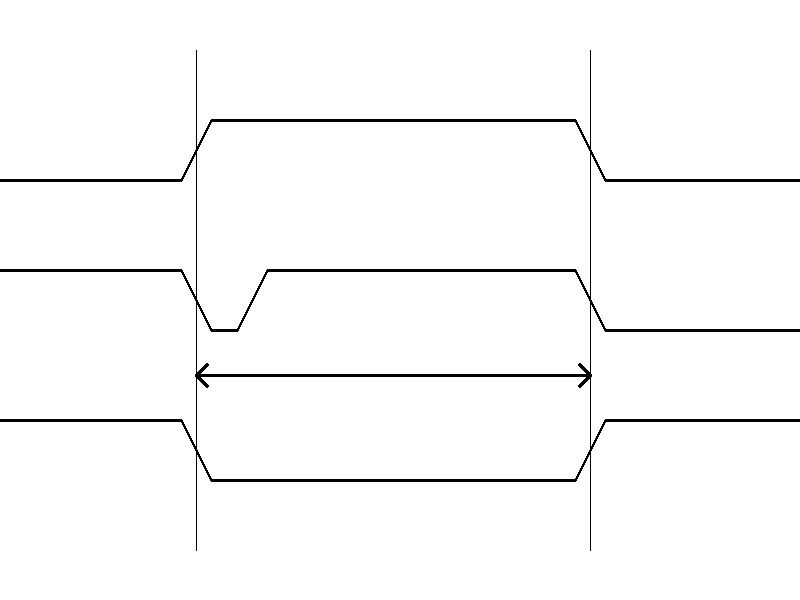double_arrow: (196, 360, 590, 390)
